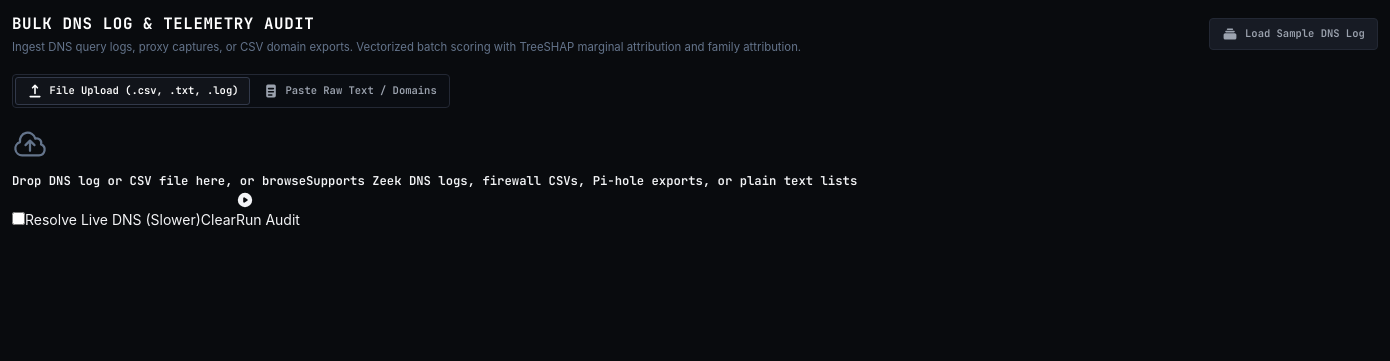
Test: BulkAudit Component › clears input when Clear button is clicked
Click the button "Load Sample DNS Log". click: (1293, 34)
box: [1209,18,1378,50]
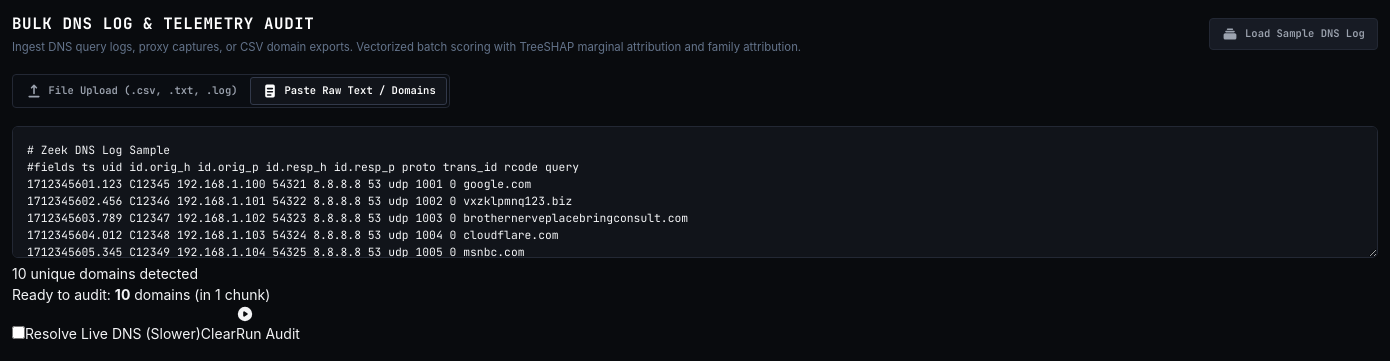
Expected: the text "10 unique domains detected" is shown, [12,265,198,282]
Click the button "Clear". click: (218, 334)
box: [201,323,236,344]
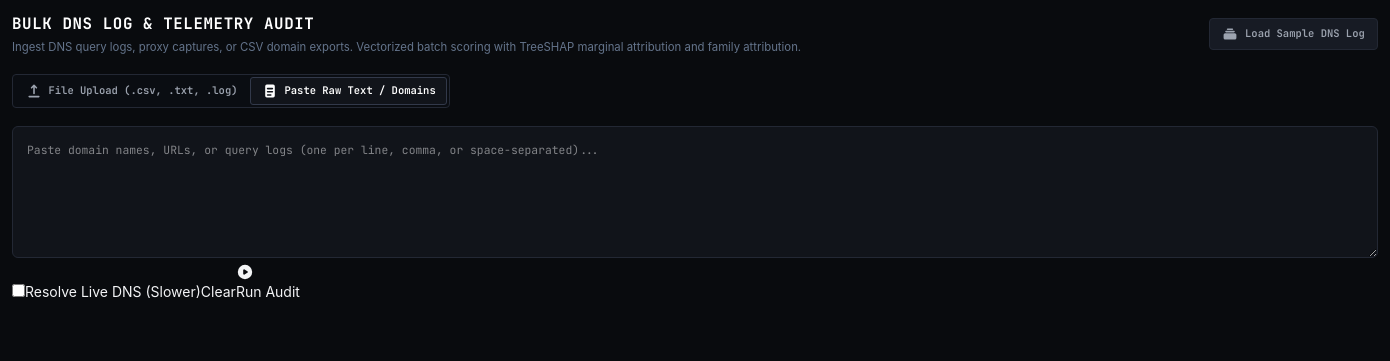
Expected: the text "10 unique domains detected" is gone
Expected: the button "Run Audit" is disabled, [236,263,300,302]
